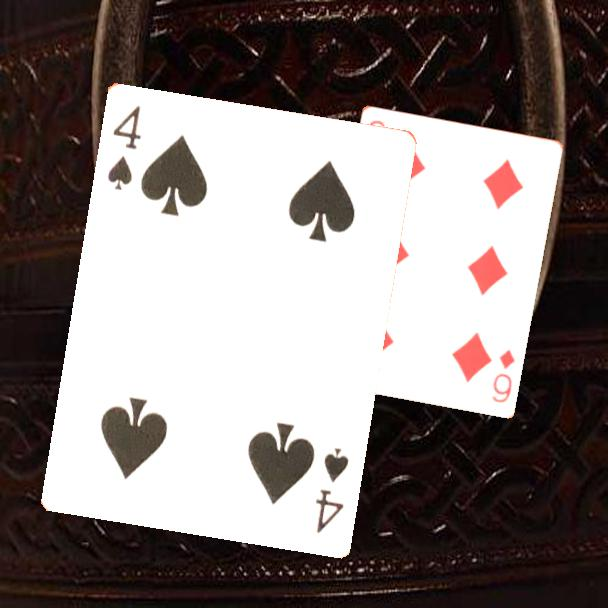d06: (488, 345, 517, 405)
s04: (103, 101, 144, 193), (311, 444, 351, 536)
